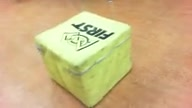cube: (34, 10, 134, 108)
